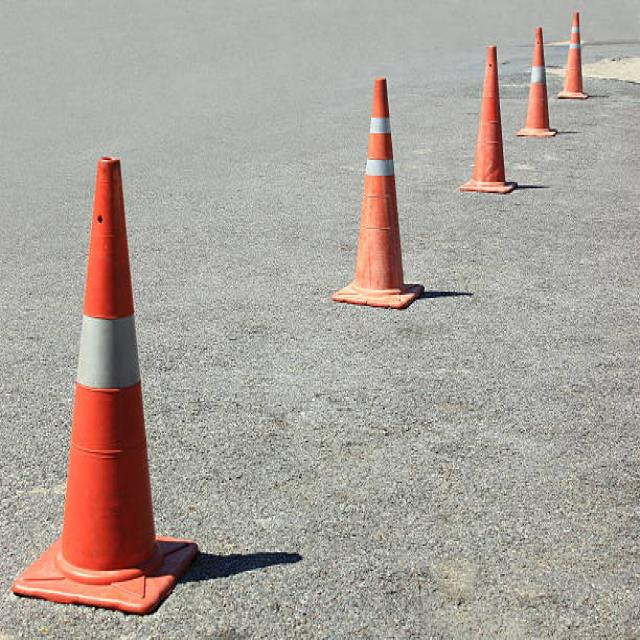Traffic Cone: (3, 127, 210, 640), (324, 59, 432, 331), (454, 35, 524, 209), (516, 10, 560, 150), (554, 3, 592, 106)
